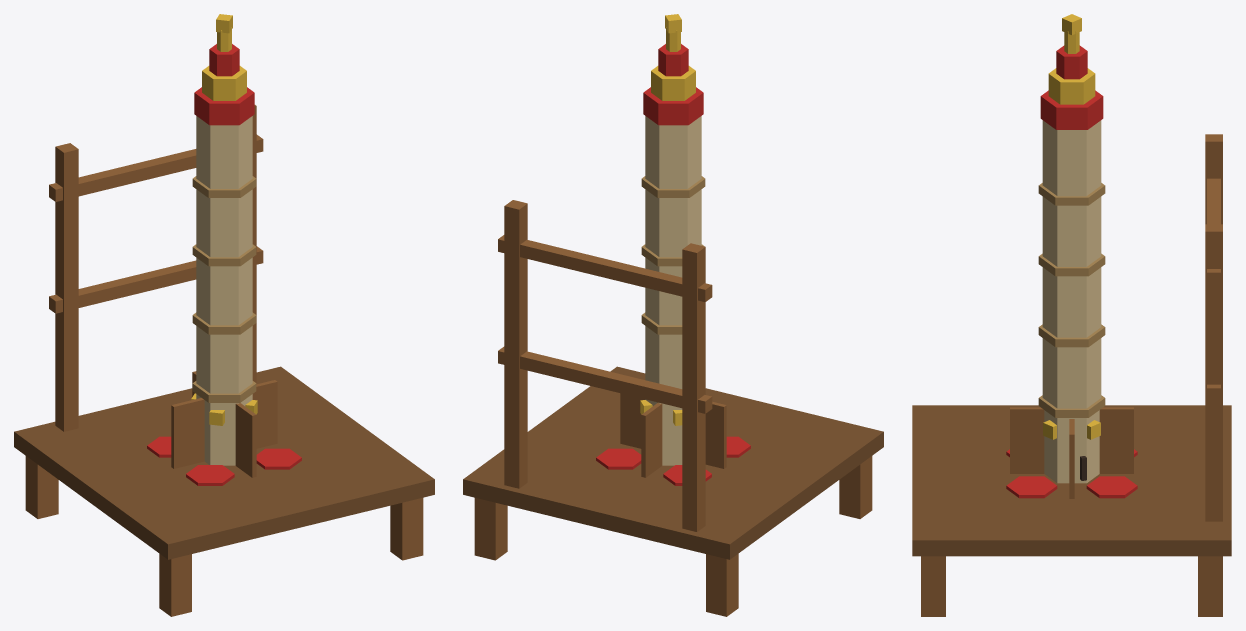
Rendered from rocket.obj.
3 renders of one model, left to right at view 1: azimuth 30°, elevation 25°; view 2: azimuth 150°, elevation 25°; view 3: azimuth 270°, elevation 25°, orthographic. The views are drawn at different scales.
Parts seen in each view (by area): view 1: Deck, Shaft_2, FramePost1, Shaft_1, Shaft_3, Fin2, FrameBar2, FrameBar1, Leg4, Leg2, Leg1, Fin1 (+3 smaller); view 2: Deck, Shaft_3, FramePost2, FramePost1, FrameBar2, FrameBar1, Shaft_2, Fin2, Leg3, Leg1, Shaft_1, Leg2 (+3 smaller); view 3: Deck, Shaft_1, FramePost2, Shaft_3, Shaft_2, Fin1, Leg3, Leg4, FramePost1, FrameBar2, Nose1_1, Nose2_1 (+5 smaller).
Boxes of the visible parts, box(x1,y1,x2,y2) form: Deck: box(14, 366, 434, 559); Shaft_2: box(210, 125, 238, 465); FramePost1: box(55, 143, 78, 431); Shaft_1: box(196, 116, 210, 464); Shaft_3: box(238, 116, 252, 405); Fin2: box(171, 380, 277, 468); FrameBar2: box(49, 134, 263, 201); FrameBar1: box(49, 246, 263, 313); Leg4: box(390, 498, 423, 560); Leg2: box(159, 553, 191, 616); Leg1: box(25, 456, 58, 518); Fin1: box(192, 371, 256, 477); Deck: box(463, 366, 883, 559); Shaft_3: box(659, 125, 687, 465); FramePost2: box(504, 200, 527, 488); FramePost1: box(682, 243, 705, 531); FrameBar2: box(498, 235, 712, 302); FrameBar1: box(498, 346, 712, 413); Shaft_2: box(645, 116, 659, 405); Fin2: box(620, 393, 726, 468); Leg3: box(474, 498, 507, 560); Leg1: box(706, 553, 738, 616); Shaft_1: box(687, 116, 701, 245); Leg2: box(839, 456, 872, 518); Deck: box(912, 405, 1231, 556); Shaft_1: box(1057, 130, 1086, 483); FramePost2: box(1205, 224, 1222, 521); Shaft_3: box(1042, 120, 1057, 482); Shaft_2: box(1086, 120, 1101, 482); Fin1: box(1010, 407, 1133, 473); Leg3: box(1198, 556, 1222, 616); Leg4: box(921, 556, 945, 616); FramePost1: box(1205, 134, 1222, 224); FrameBar2: box(1207, 178, 1220, 285); Nose1_1: box(1056, 102, 1087, 129); Nose2_1: box(1060, 77, 1083, 104).
Size of the model in its own units: 18 by 33.24 by 18.
